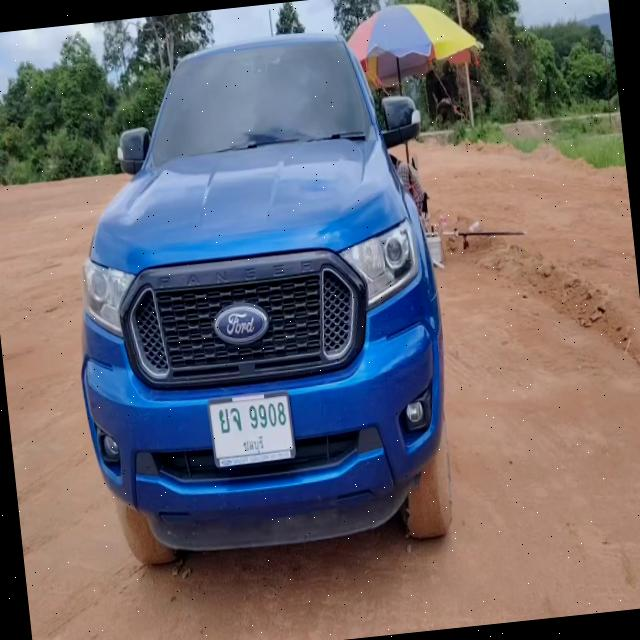Digit: (248, 397, 288, 432)
Licenseplate: (205, 388, 299, 472)
Provincename: (240, 432, 268, 457)
Thaichar: (215, 402, 242, 436)
